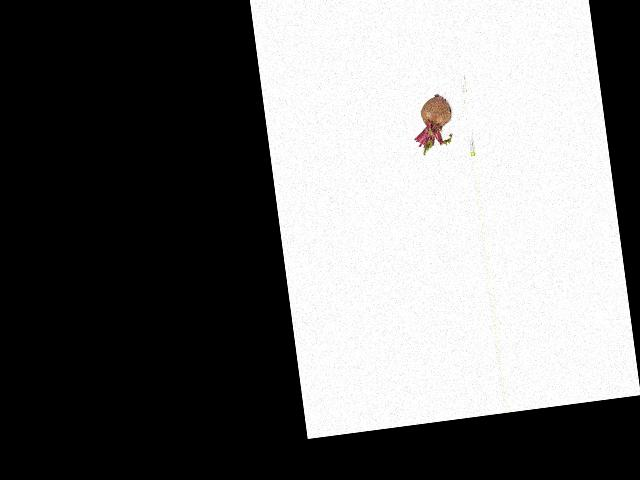beet: (409, 92, 455, 155)
